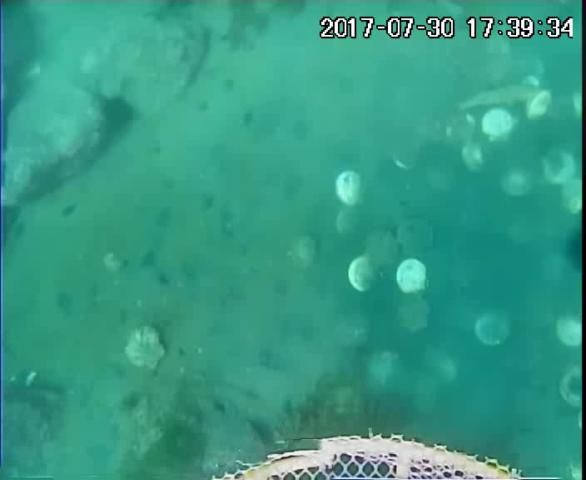echinus: (99, 93, 140, 135)
scallop: (369, 351, 415, 405), (122, 323, 168, 377), (396, 215, 443, 261), (395, 291, 436, 339), (361, 226, 404, 270), (474, 305, 513, 349), (459, 139, 497, 181), (543, 147, 581, 189), (499, 165, 542, 202), (397, 255, 433, 296), (349, 253, 383, 296), (289, 231, 323, 273), (334, 169, 369, 209), (334, 203, 369, 243), (556, 308, 586, 353), (480, 110, 521, 142), (561, 362, 586, 413), (528, 89, 555, 123), (562, 177, 586, 215)
